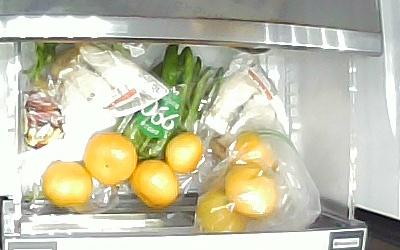tangerine: (83, 132, 137, 184), (43, 161, 93, 212), (132, 160, 180, 208), (165, 132, 204, 175)
tangerine_vinyl: (224, 165, 280, 219), (196, 185, 249, 233), (235, 132, 279, 176)
